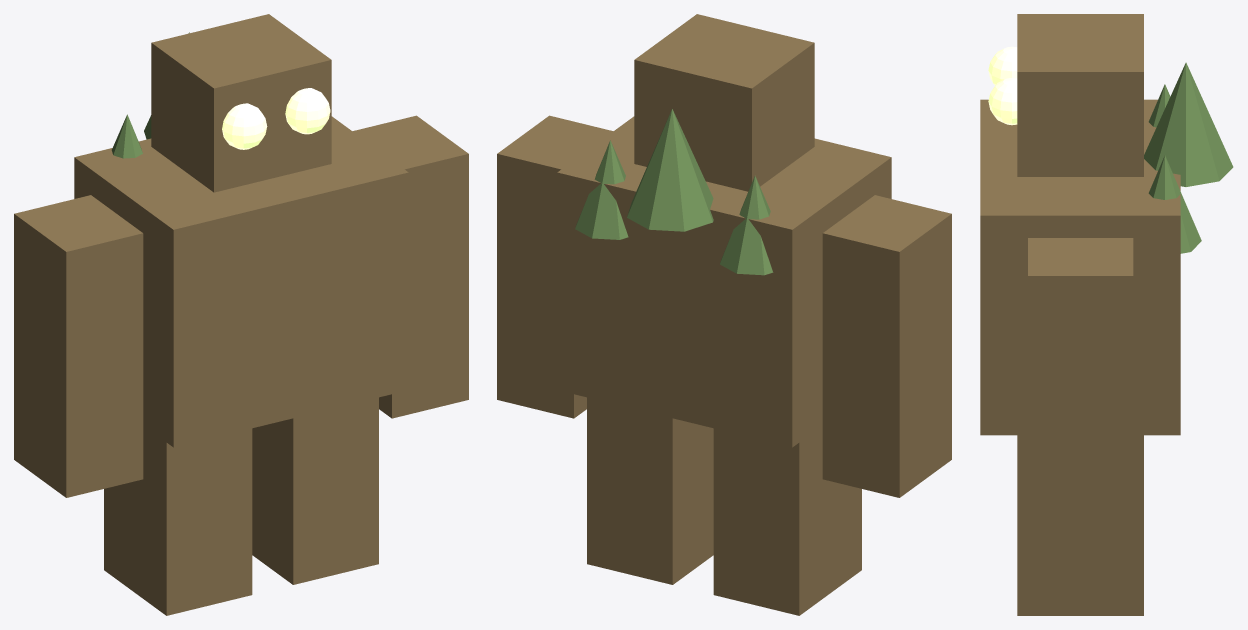
Rendered from creature_golem_wood.glb.
The picture shows the model from 3 angles, left to right: view 1: azimuth 30°, elevation 25°; view 2: azimuth 150°, elevation 25°; view 3: azimuth 270°, elevation 25°; orthographic projection.
Parts seen in each view (by area): view 1: creature_golem_wood; view 2: creature_golem_wood; view 3: creature_golem_wood.
Part boxes in pixels (x1,y1,x2,y2): creature_golem_wood: [14, 14, 468, 615]; creature_golem_wood: [497, 14, 951, 615]; creature_golem_wood: [980, 14, 1233, 615].
Size of the model in its own units: 0.8165 by 1 by 0.4404.
